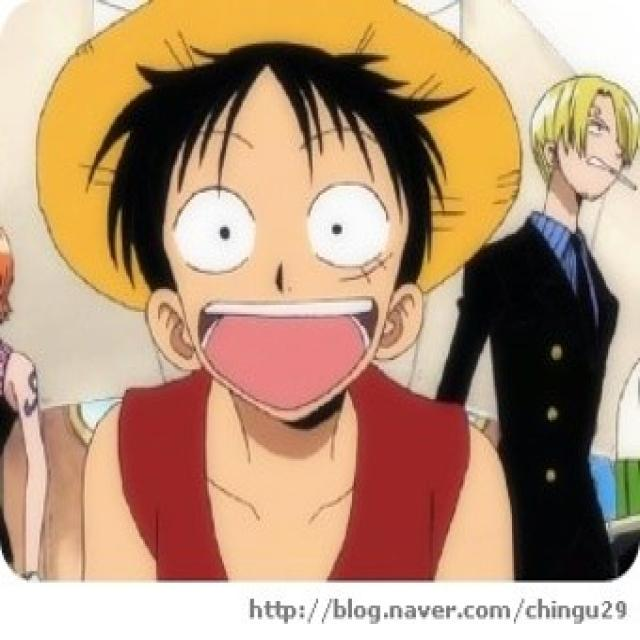Luffy: (34, 0, 495, 413)
Sangdi: (518, 68, 638, 213)
